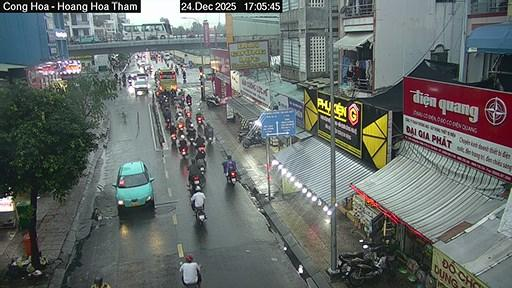motorbike: (345, 242, 390, 286), (336, 239, 384, 275), (348, 256, 386, 286), (243, 133, 265, 147), (205, 94, 220, 107), (195, 207, 205, 224), (236, 130, 249, 142), (189, 175, 201, 187), (227, 171, 236, 184), (198, 158, 204, 174), (165, 117, 172, 130), (179, 145, 186, 157), (195, 115, 202, 126), (170, 133, 176, 144), (205, 135, 211, 144), (185, 97, 191, 104)
